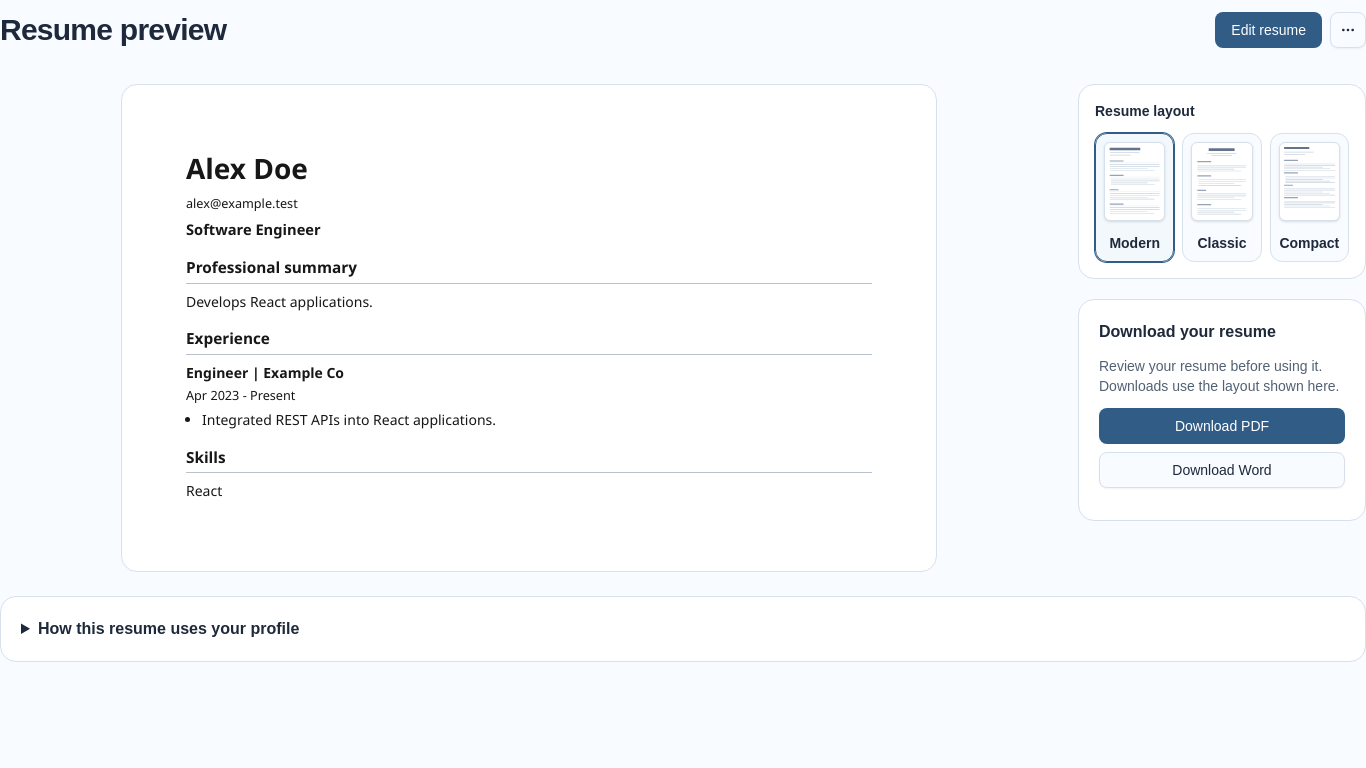
Test case: explains empty bullets in plain language and keeps the editor open
Click the button "Edit resume". click: (1269, 30)
box: [1215,12,1322,48]
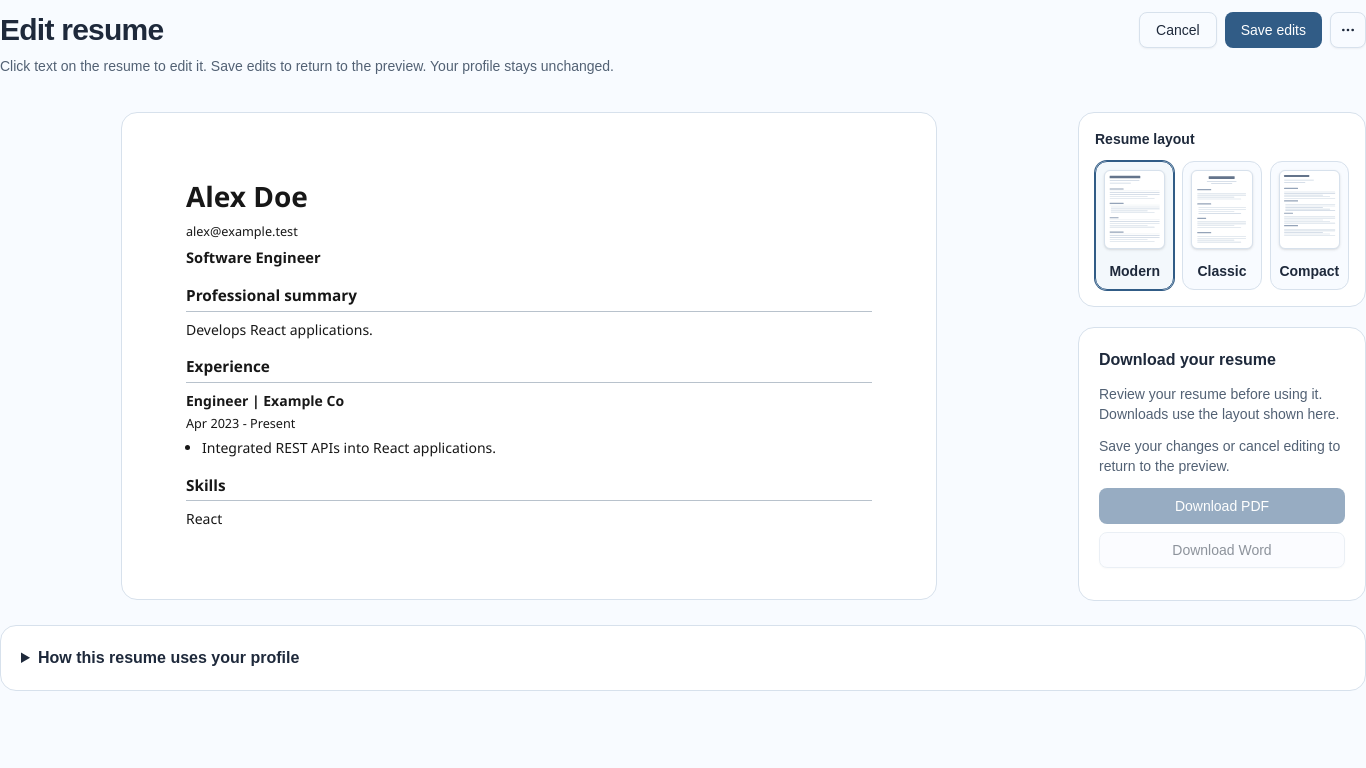
Clear the field named "Employment 1: Bullet 1". click: (349, 447)
box: [202,438,496,457]
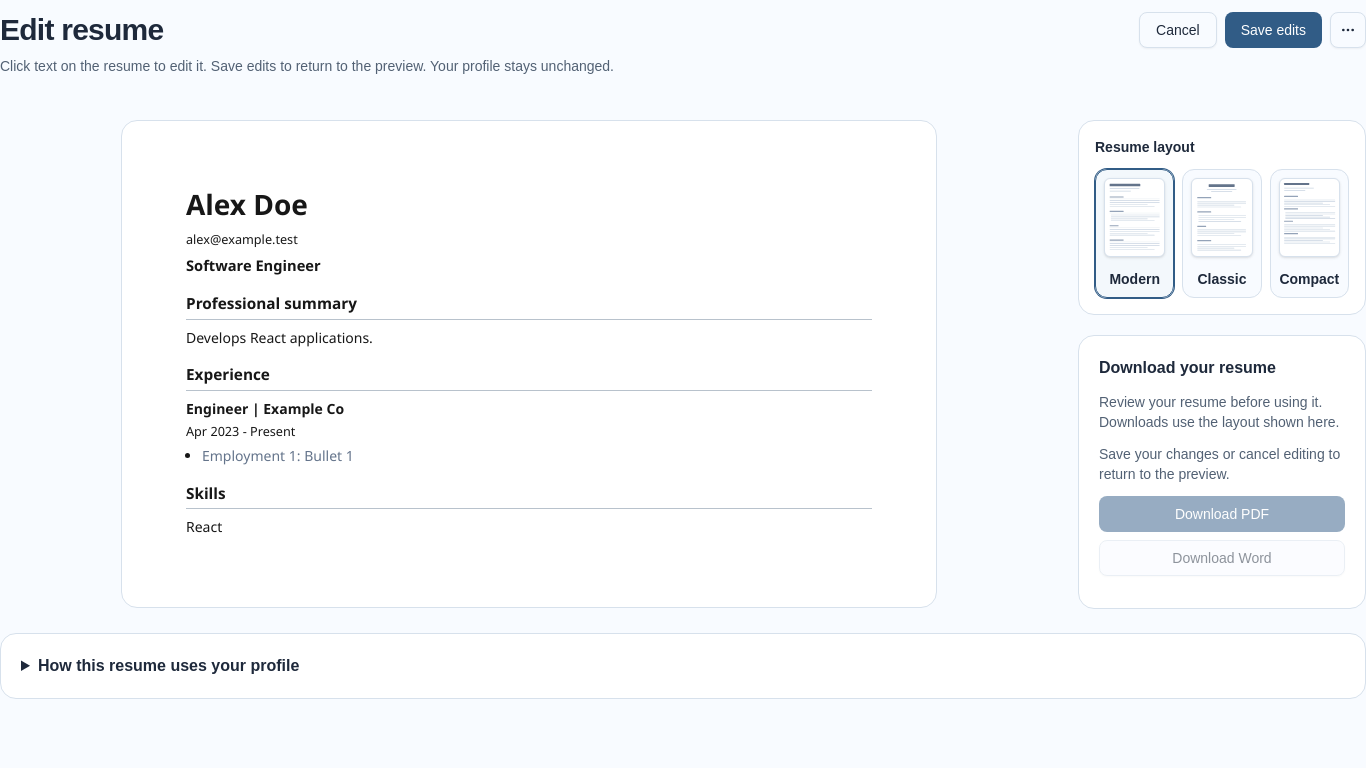
Click the button "Save edits". click: (1273, 30)
box: [1225,12,1322,48]
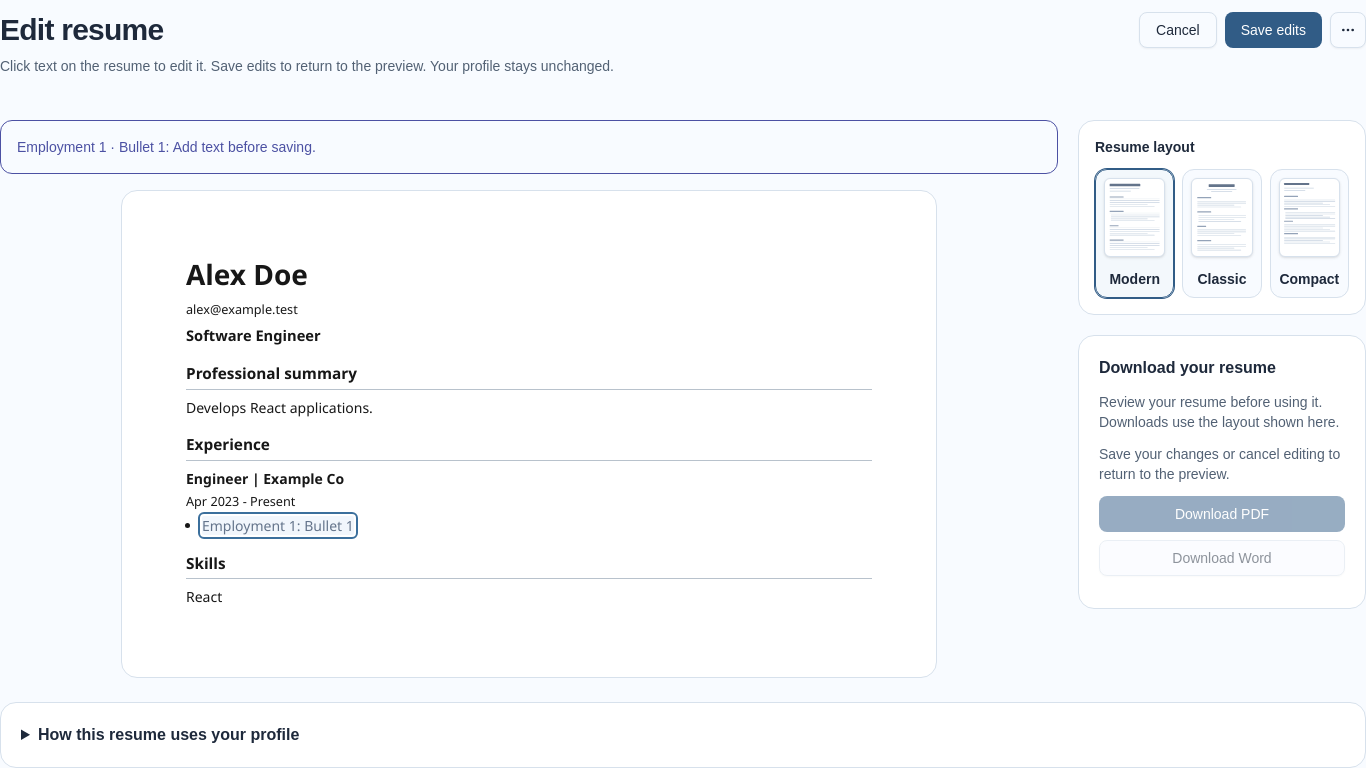
expect the element named "Resume text editor" is shown: met, box [0,190,1058,678]
expect the message named "Resume error" reads "Employment 1 · Bullet 1: Add text before saving.": met, box [17,139,316,155]
